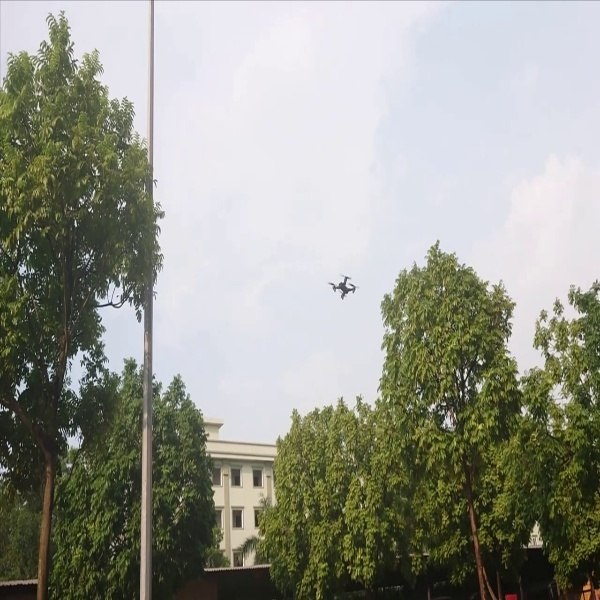drone: (325, 270, 363, 304)
